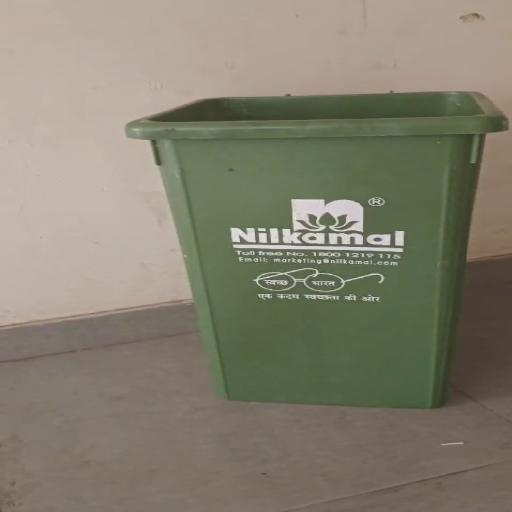Nilkamal-dustbin-detection: (127, 92, 506, 407)
